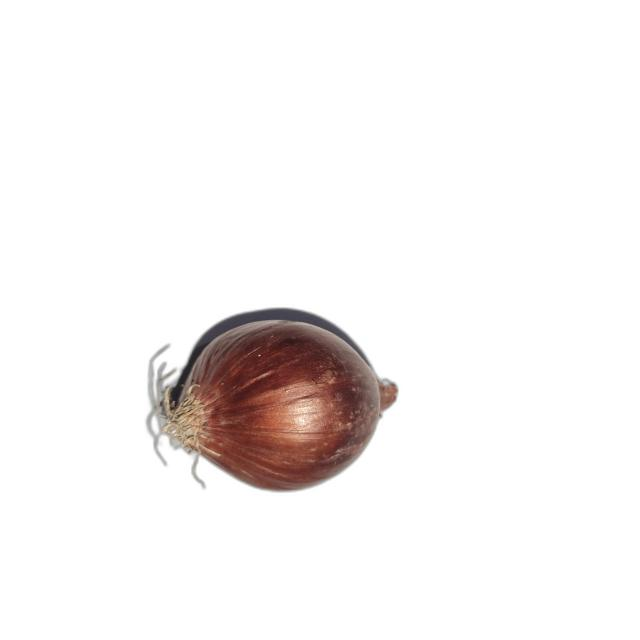onion: (156, 319, 401, 495)
